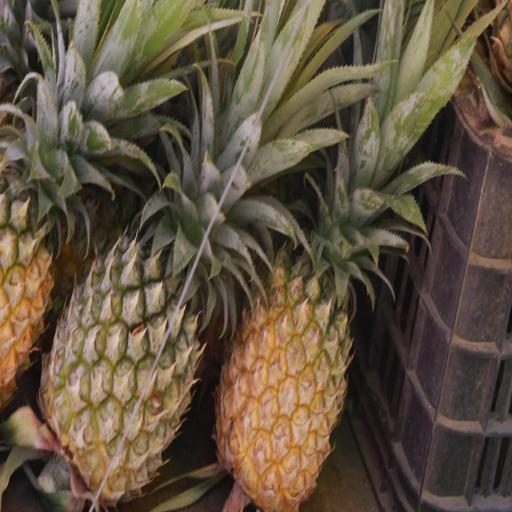Pineapple - v8 v1: (212, 165, 354, 512)
